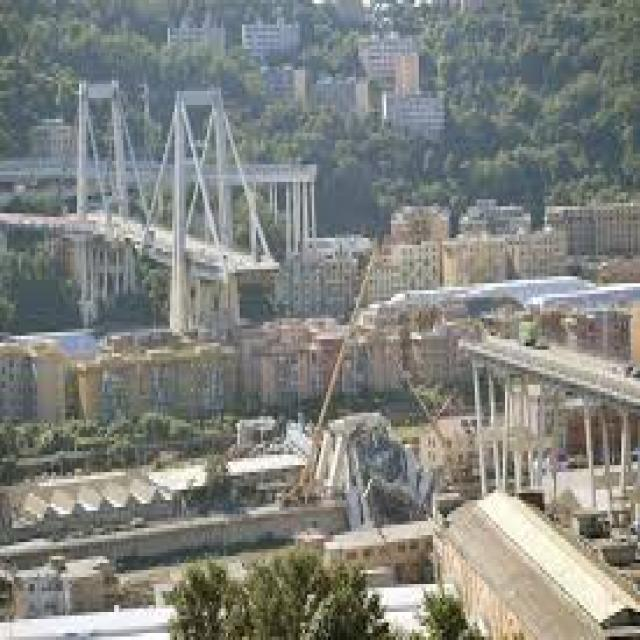bridge collapse: (108, 110, 585, 583)
